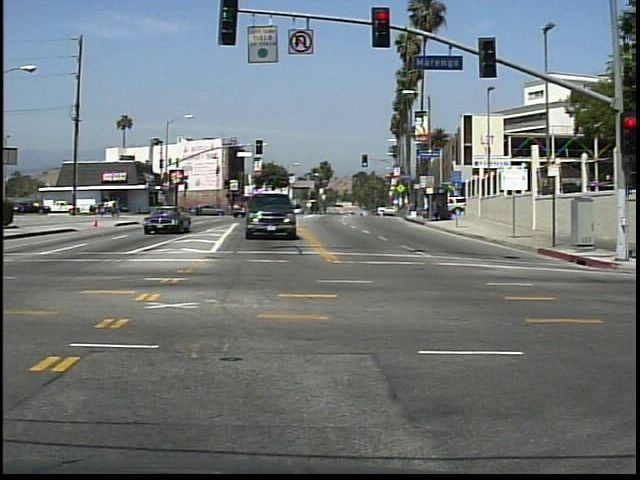person: (111, 195, 124, 221)
